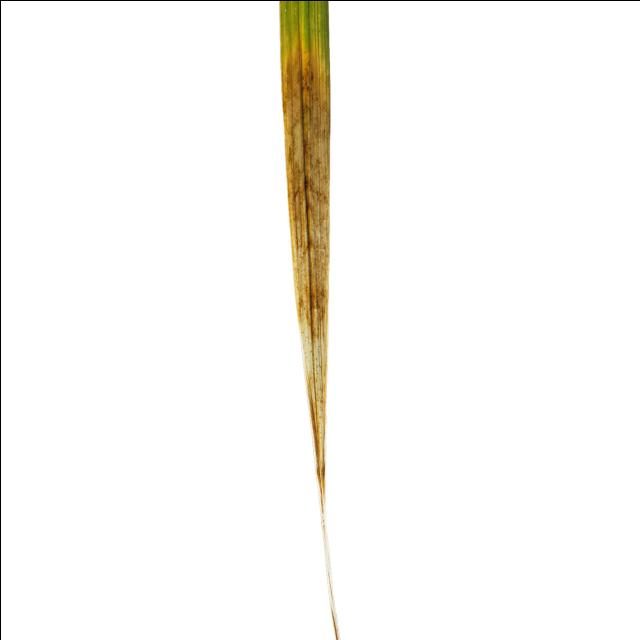Leaf scald: (145, 0, 366, 640)
